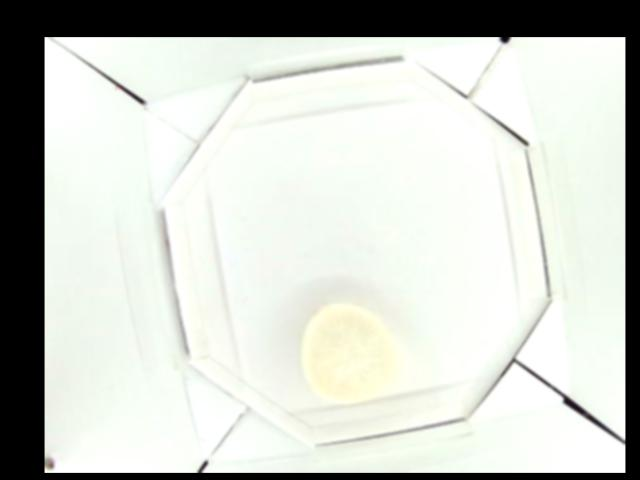Mooli: (301, 301, 398, 405)
